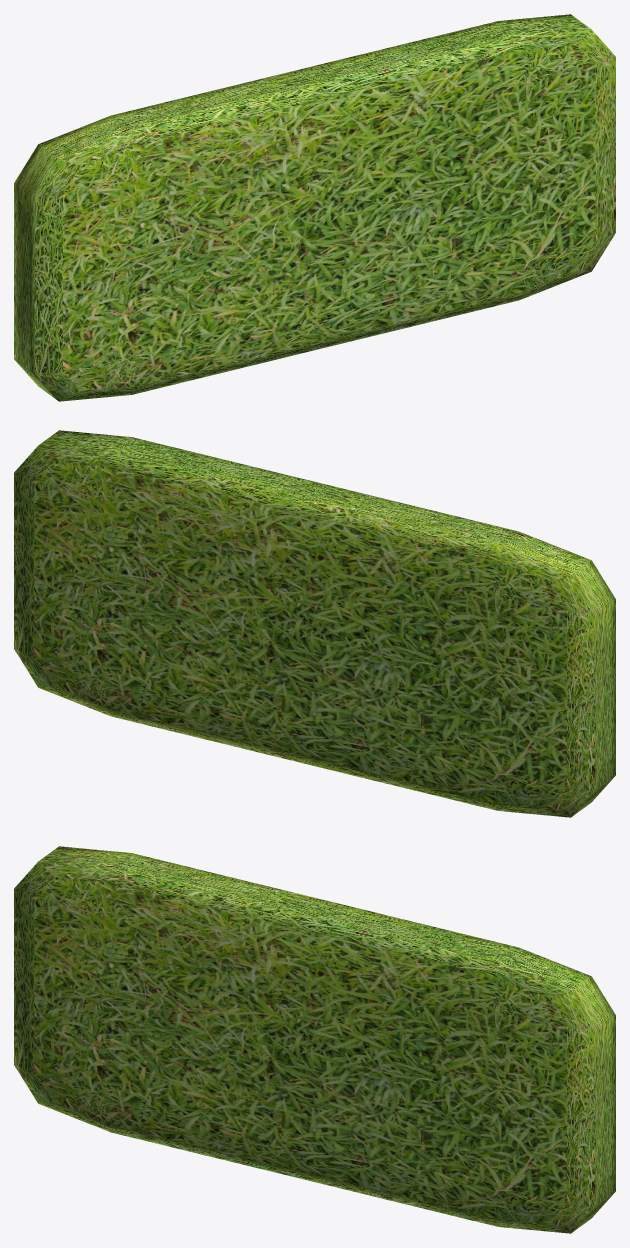
The model's file is grasswall1.fbx.
The picture shows the model from 3 angles, top to bottom: view 1: azimuth 30°, elevation 25°; view 2: azimuth 150°, elevation 25°; view 3: azimuth 330°, elevation 25°; orthographic projection.
Visible parts, largest first — view 1: Box001; view 2: Box001; view 3: Box001.
Boxes of the visible parts, x1,y1,x2,y2 form: Box001: [14, 14, 615, 401]; Box001: [14, 430, 615, 817]; Box001: [14, 846, 615, 1233].
Bounding box in the file's own units: 561 × 244 × 52.28.
1 material, 1 textured.
